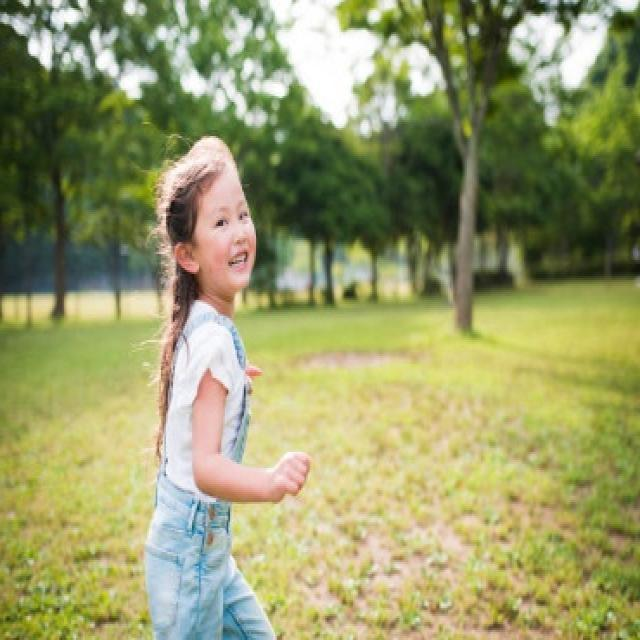child: (133, 126, 300, 640)
